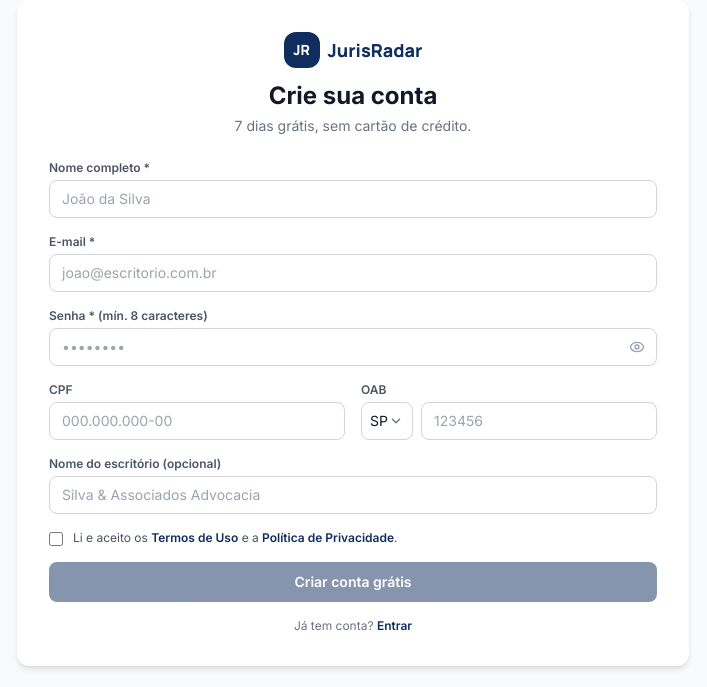
RegisterPage — aceite de termos › habilita o botão ao marcar o checkbox de aceite
Click the checkbox at (56, 539), box [49, 532, 63, 546]
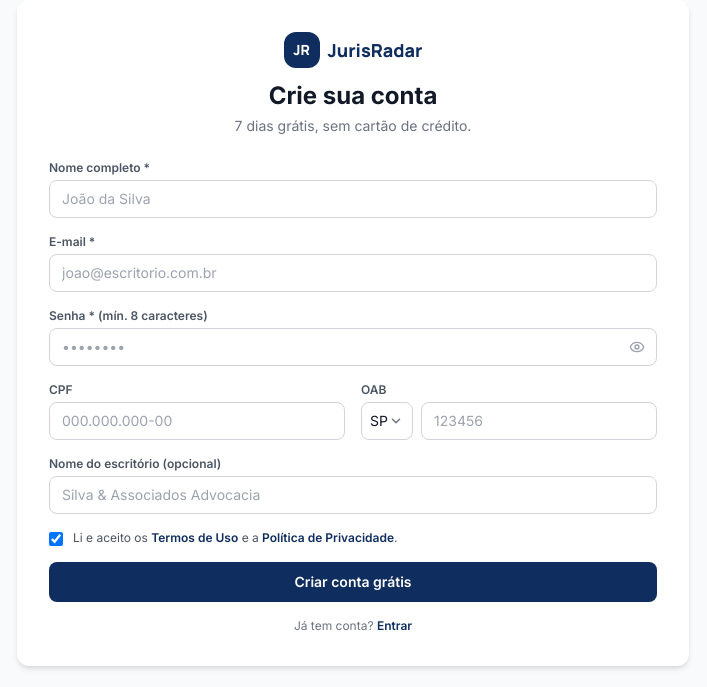
Result: the button "Criar conta grátis" is enabled at [49, 562, 657, 602]
